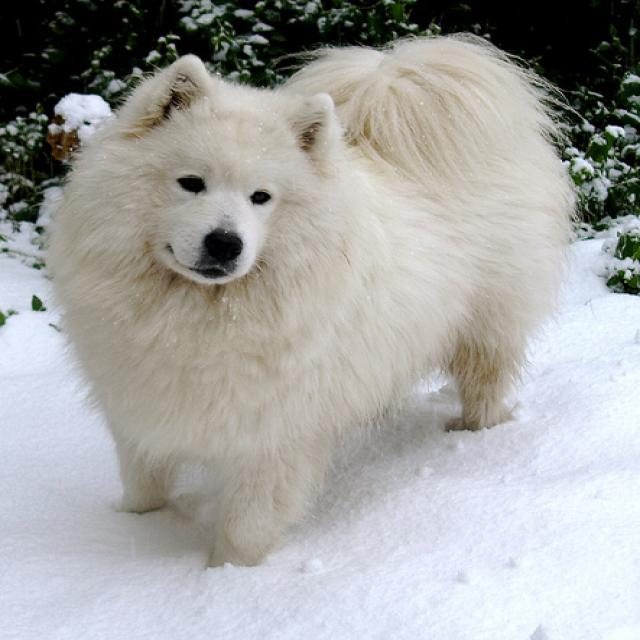dog-samoyed: (38, 23, 588, 577)
